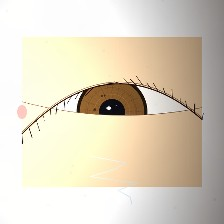foreign_body_visible: (88, 124, 114, 145)
